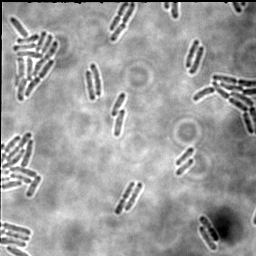Dividing: (109, 3, 137, 43), (114, 181, 136, 216), (124, 181, 144, 213), (109, 2, 129, 32), (184, 39, 201, 68), (89, 63, 103, 98)
Microcolony: (9, 16, 60, 102), (192, 73, 256, 137), (1, 132, 44, 198), (1, 222, 33, 255)
Rod: (188, 46, 205, 76), (198, 226, 217, 252), (110, 91, 127, 117), (175, 147, 196, 167), (84, 71, 97, 101), (175, 158, 195, 177), (113, 109, 126, 138)
